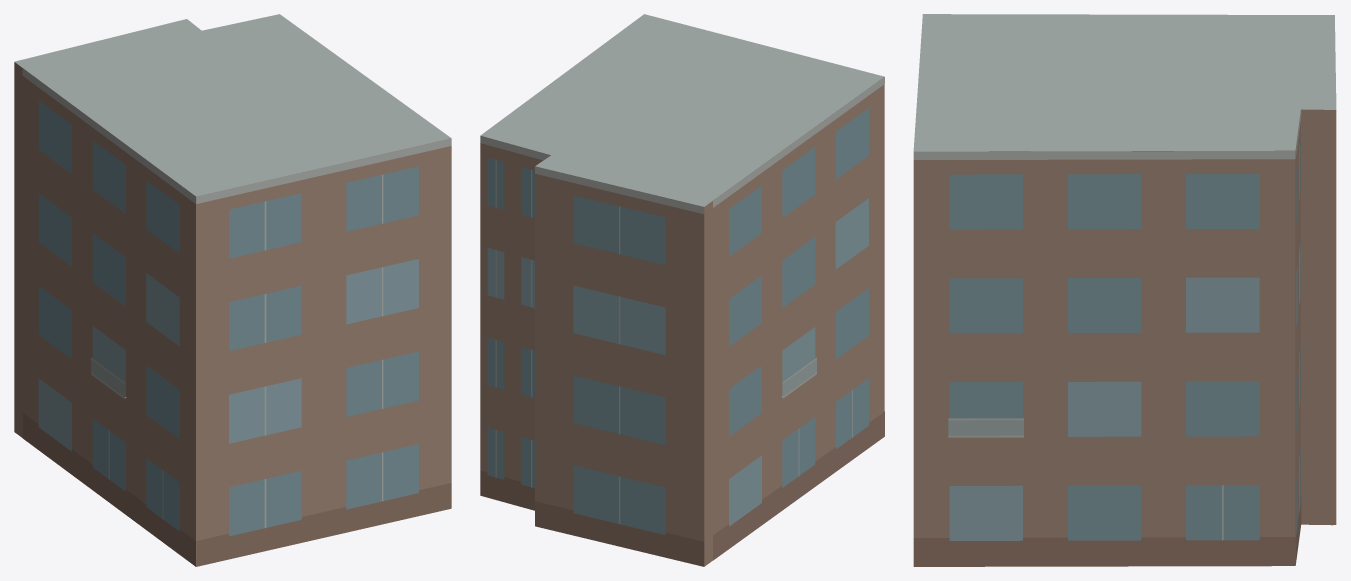
Rendered from survey-upis-32783451.glb.
3 views of the same model, side by side, from view 1: azimuth 30°, elevation 25°; view 2: azimuth 150°, elevation 25°; view 3: azimuth 270°, elevation 25° (orthographic). The views are drawn at different scales.
Visible parts, largest first — view 1: survey-upis-32783451.tmp; view 2: survey-upis-32783451.tmp; view 3: survey-upis-32783451.tmp.
Part boxes in pixels (x1,y1,x2,y2): survey-upis-32783451.tmp: (14, 14, 451, 566); survey-upis-32783451.tmp: (480, 14, 884, 566); survey-upis-32783451.tmp: (913, 14, 1336, 566).
Bounding box in the file's own units: 8.51 × 11.9 × 11.
